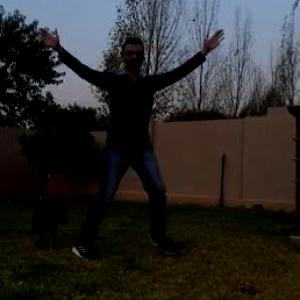takeoff: (15, 35, 179, 262)
